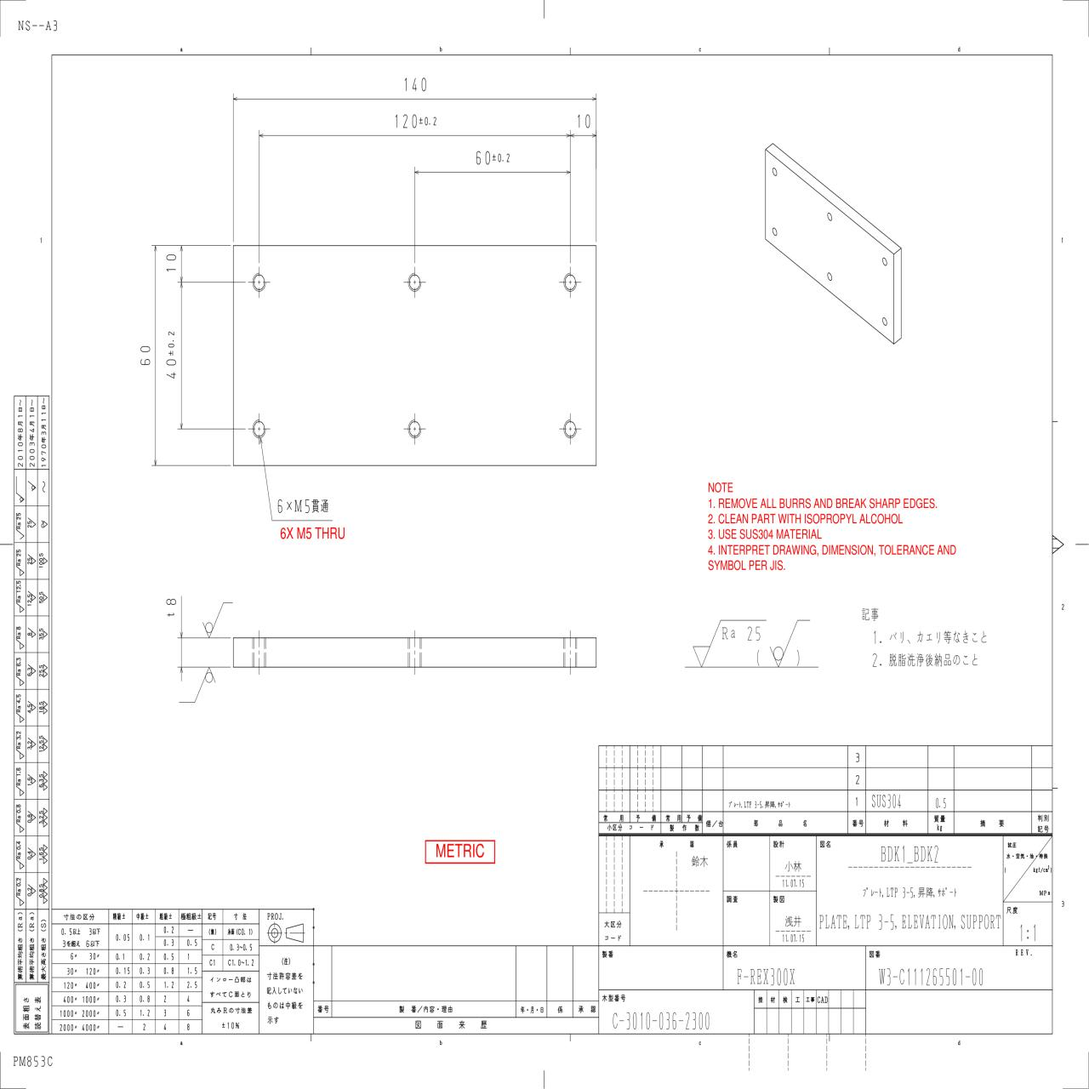basic_dimension: (395, 114, 439, 129), (476, 150, 510, 165), (166, 331, 176, 379), (404, 77, 426, 92), (577, 114, 590, 130), (140, 346, 150, 365), (166, 254, 176, 272)
dimension_metric_symbol: (294, 499, 302, 514)
dimension_thickness_symbol: (166, 597, 176, 617)
surface_finish_symbol: (692, 617, 767, 668), (769, 619, 810, 668), (179, 667, 216, 703), (202, 602, 233, 639)
